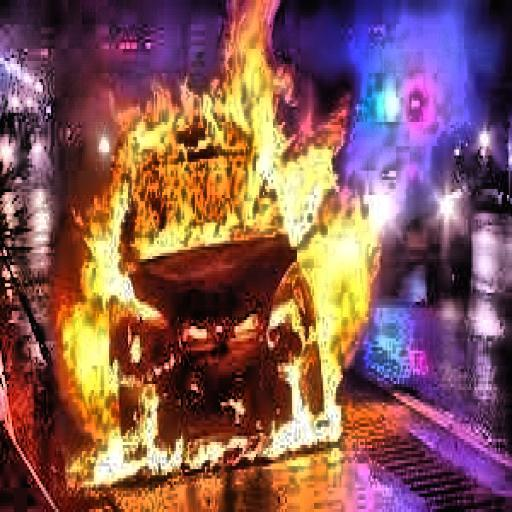fire: (34, 22, 388, 482)
